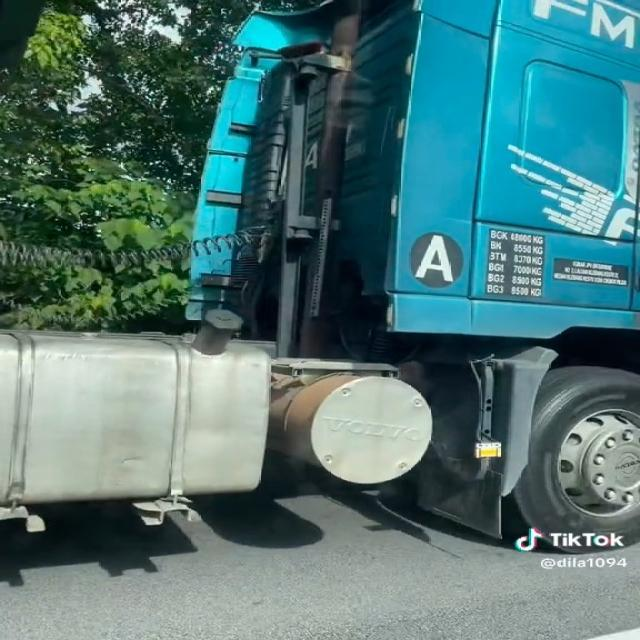truck: (218, 0, 640, 489)
